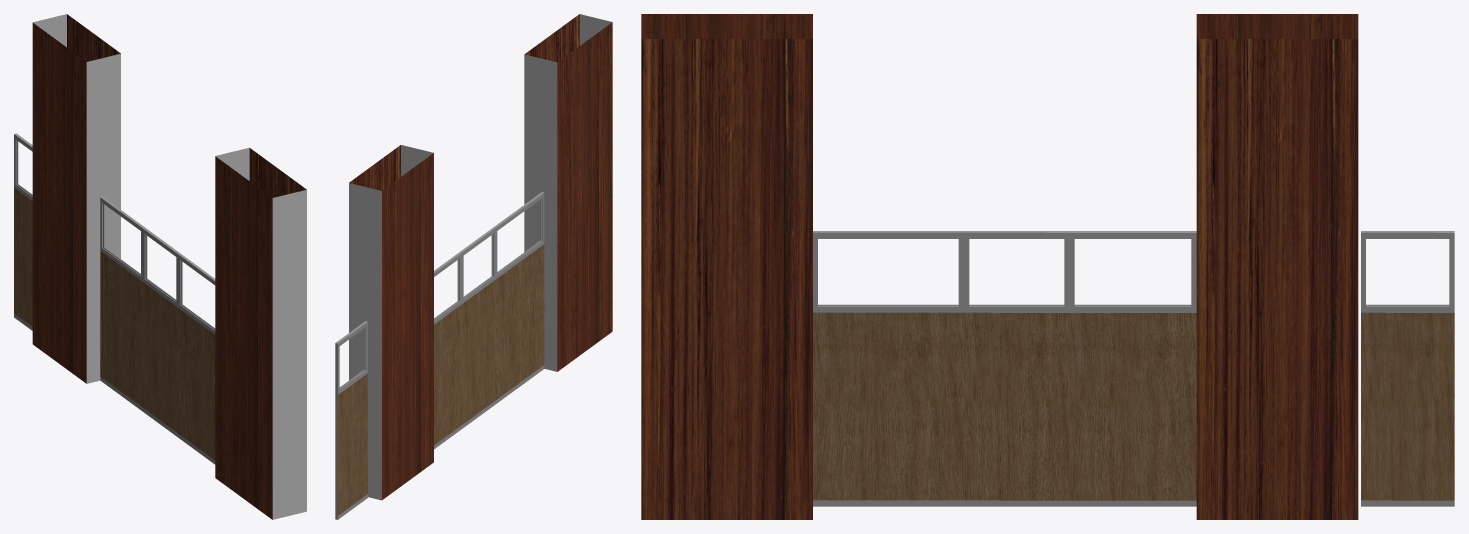
Rendered from pared_interna_2.glb.
3 views of the same model, side by side, from view 1: azimuth 30°, elevation 25°; view 2: azimuth 150°, elevation 25°; view 3: azimuth 270°, elevation 25° (orthographic). The views are drawn at different scales.
Visible parts, largest first — view 1: columna1.131; view 2: columna1.131; view 3: columna1.131.
Boxes of the visible parts, x1,y1,x2,y2 form: columna1.131: (14,14,306,519); columna1.131: (335,14,612,519); columna1.131: (641,14,1454,519).
Bounding box in the file's own units: 1.77 × 15.8 × 24.22.
4 materials, 2 textured.
